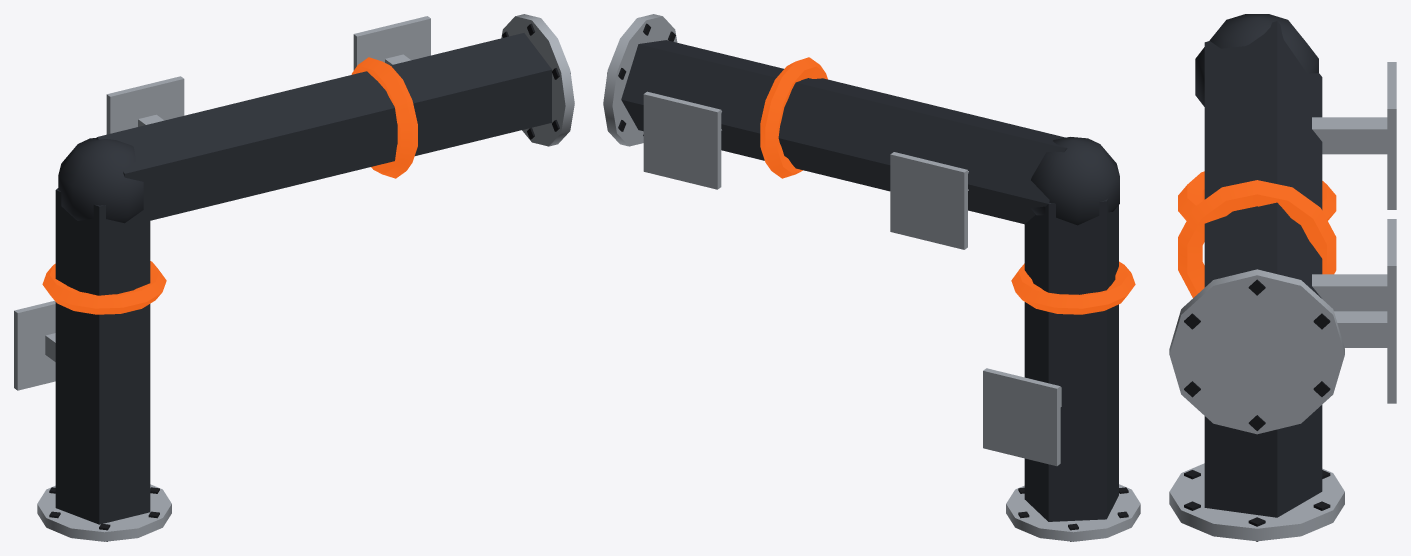
Rendered from coil_plasma_conduit_elbow.glb.
3 views of the same model, side by side, from view 1: azimuth 30°, elevation 25°; view 2: azimuth 150°, elevation 25°; view 3: azimuth 270°, elevation 25° (orthographic). The views are drawn at different scales.
Parts seen in each view (by area): view 1: coil_plasma_conduit_elbow; view 2: coil_plasma_conduit_elbow; view 3: coil_plasma_conduit_elbow.
Part boxes in pixels (x1=…): coil_plasma_conduit_elbow: x1=14, y1=14, x2=574, y2=541; coil_plasma_conduit_elbow: x1=603, y1=14, x2=1140, y2=541; coil_plasma_conduit_elbow: x1=1169, y1=14, x2=1396, y2=541.
Size of the model in its own units: 1.61 by 1.21 by 0.489.
